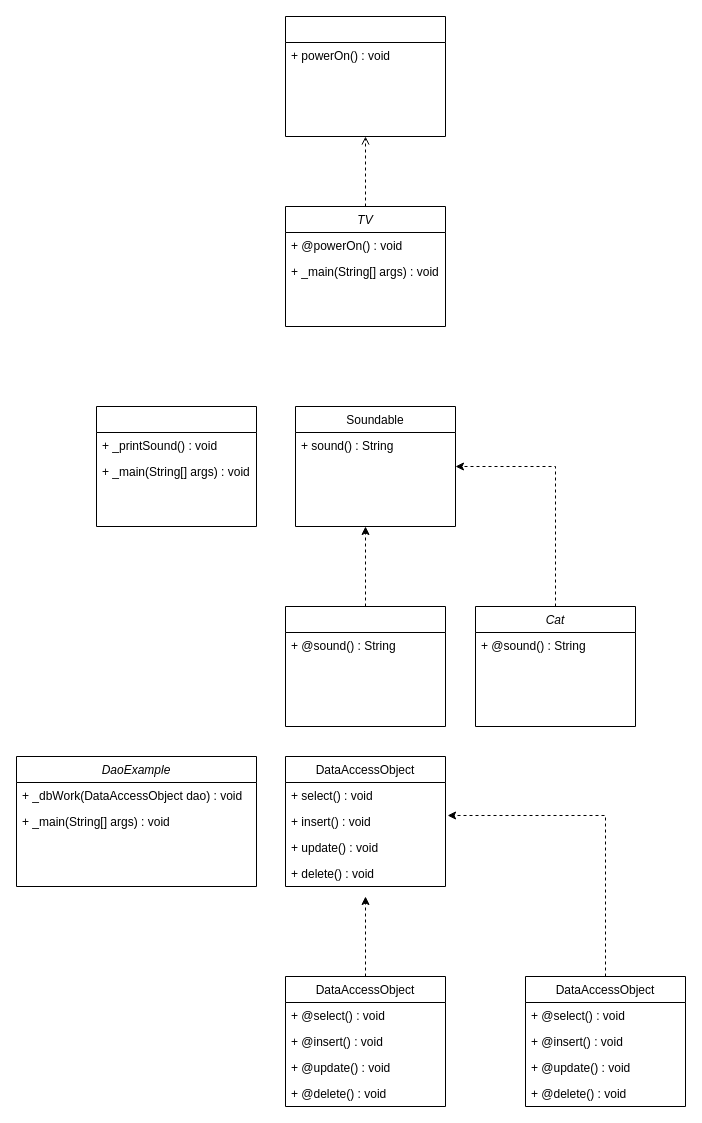
The diagram is 702 pixels wide and 1123 high, and some of its shapes have lost their labels. The shapes that lost their labels are listed below. From the top down, each one's box as (x1, y1, x2, y2) in pixels, then its label:
(284, 16, 446, 136): Remocon
(96, 406, 256, 526): SoundableExample
(284, 606, 446, 726): Dog
